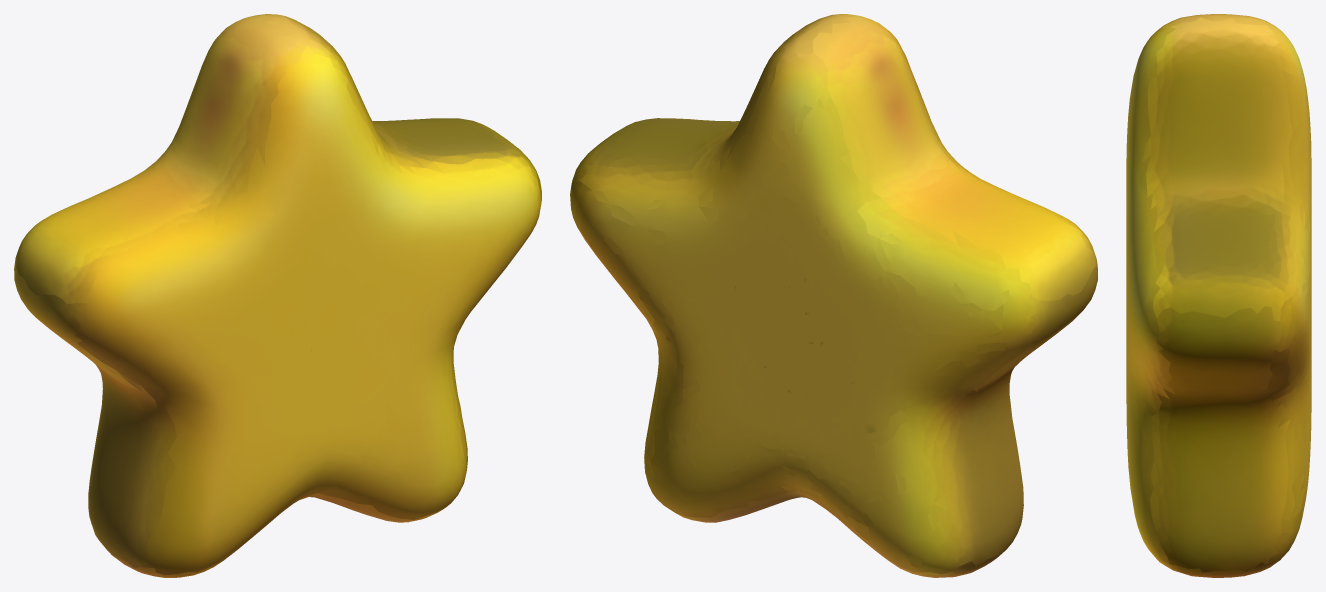
File: star_glb.glb
3 renders of one model, left to right at view 1: azimuth 30°, elevation 25°; view 2: azimuth 150°, elevation 25°; view 3: azimuth 270°, elevation 25°, orthographic. The views are drawn at different scales.
Visible parts, largest first — view 1: geometry_0; view 2: geometry_0; view 3: geometry_0.
Part boxes in pixels (x1,y1,x2,y2): geometry_0: [14, 14, 541, 577]; geometry_0: [570, 14, 1097, 577]; geometry_0: [1126, 14, 1311, 577].
Size of the model in its own units: 0.1 by 0.0999 by 0.0339.
Materials: 1 (1 with a texture image).
